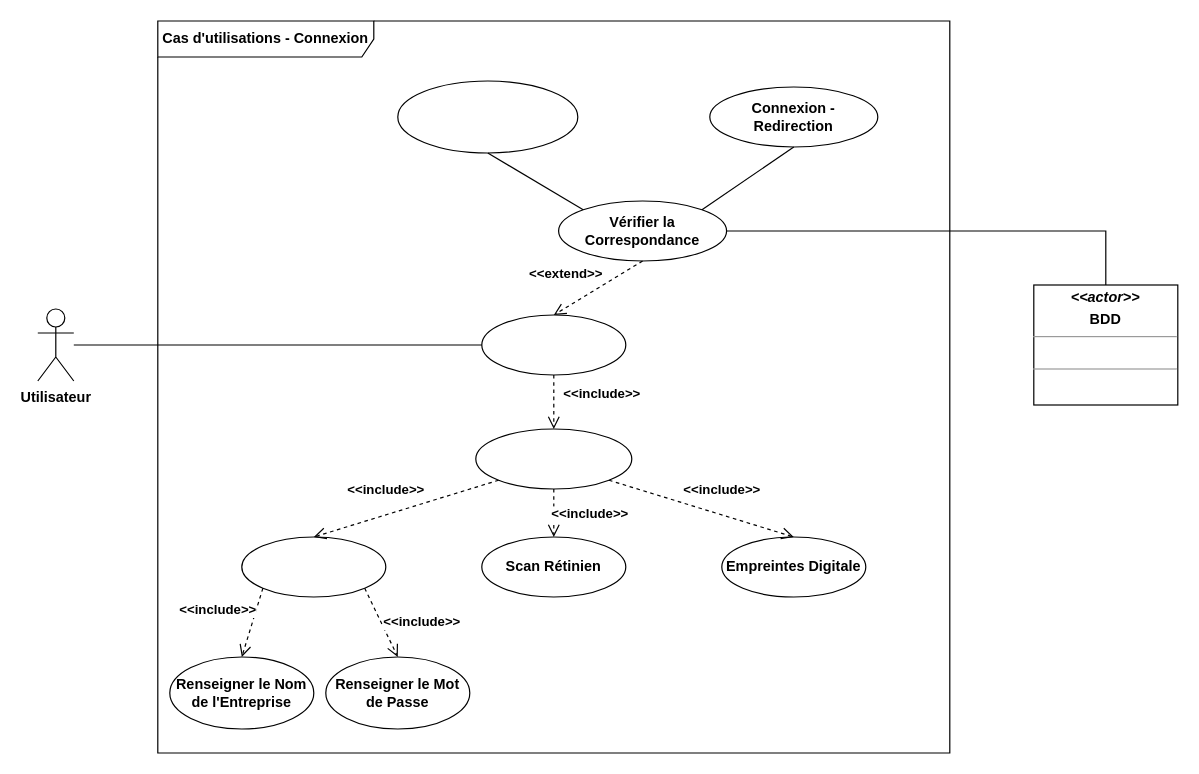
This 1199x774 diagram has some shape labels left out. The centre of each missing label's shape, as x and y in pixels:
"Choix du Type de Connexion" goes at pixel 553 458.
"Erreur - Raffraichissement de la Page" goes at pixel 487 116.
"Login - Password" goes at pixel 313 566.
"Se Connecter" goes at pixel 553 344.
